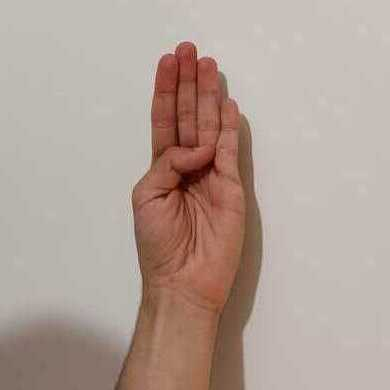B: (130, 41, 247, 313)
